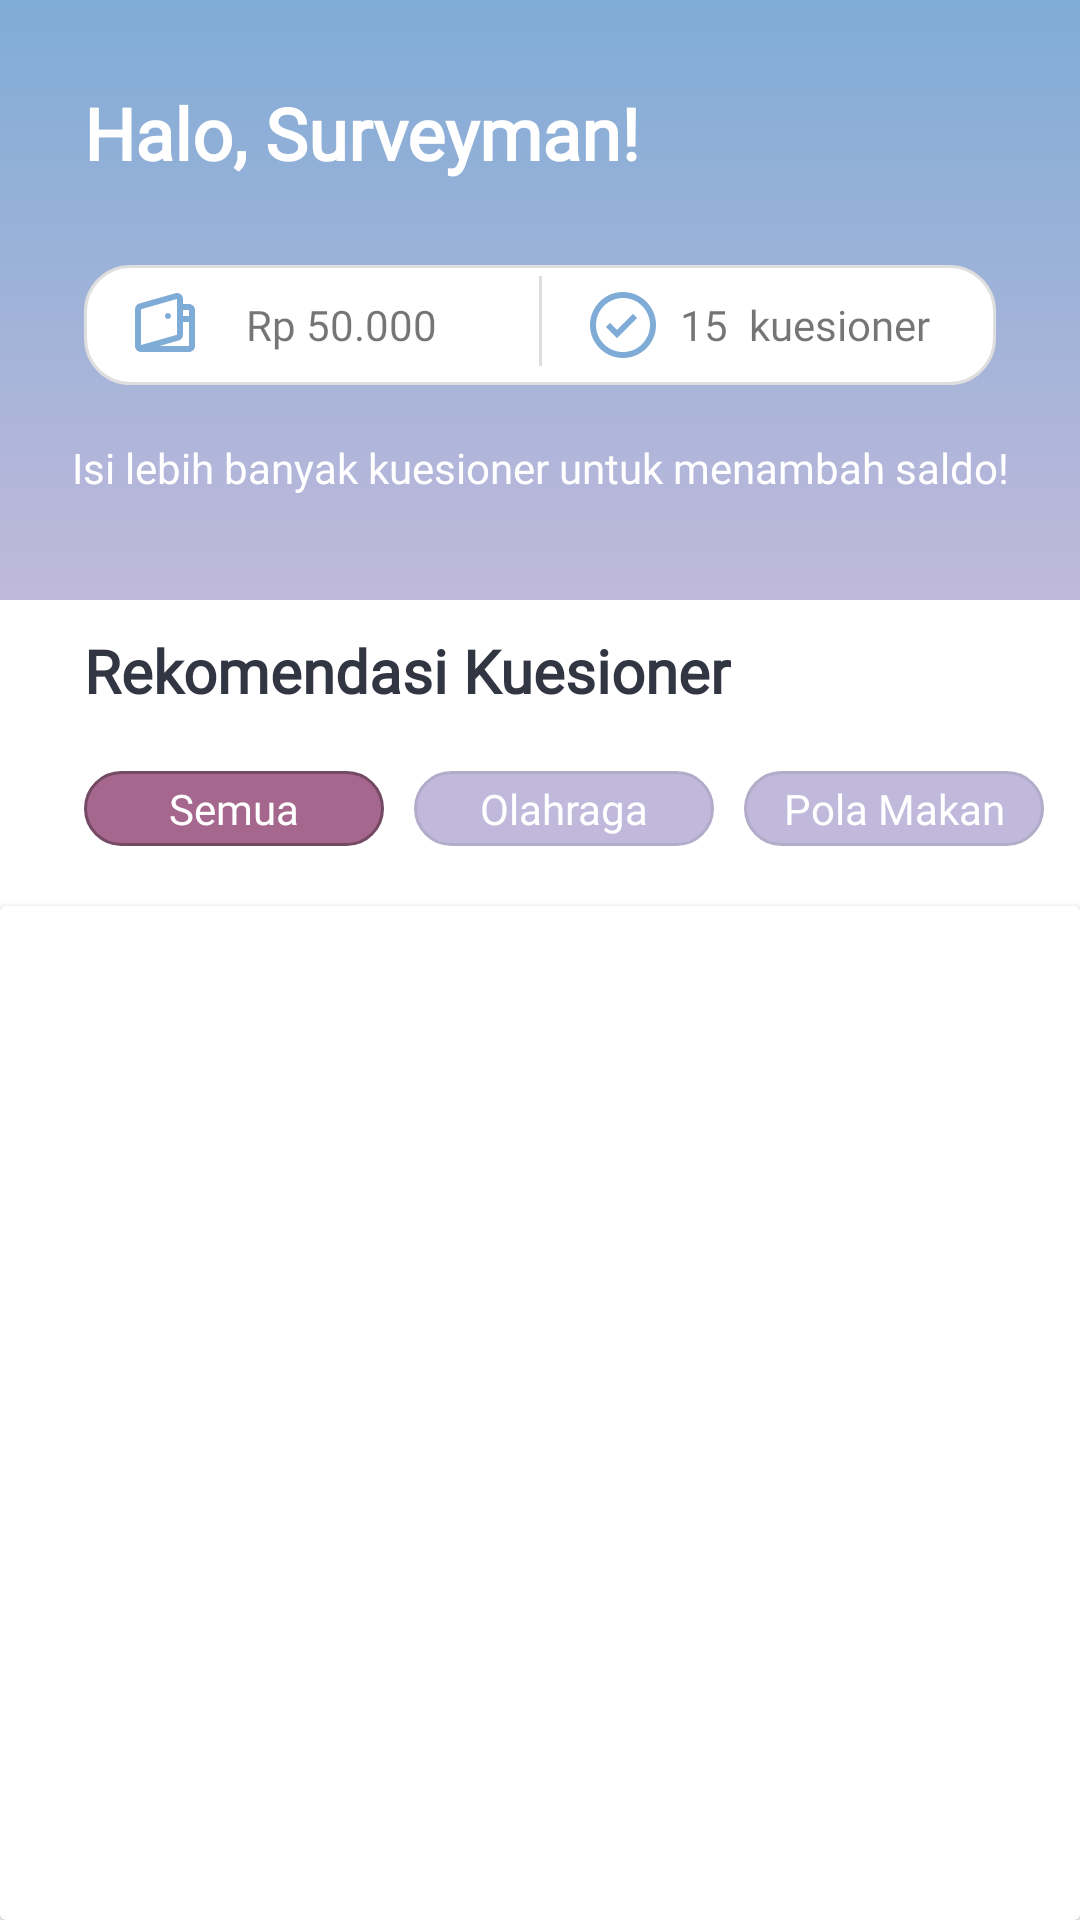

Named icons in this screenshot (1080×1920) and their centers, [x,y]:
circle checked: [623,325]
wallet: [165,325]
